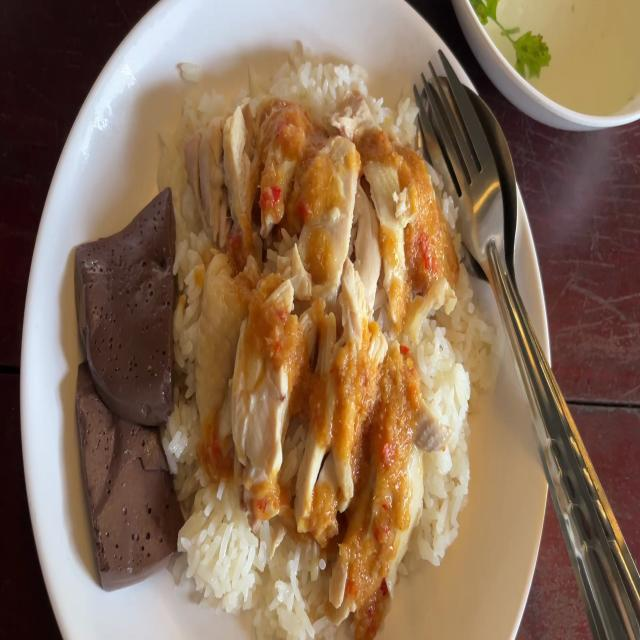chicken_rice: (190, 110, 429, 508)
noodle: (64, 178, 174, 428), (73, 348, 178, 594)
